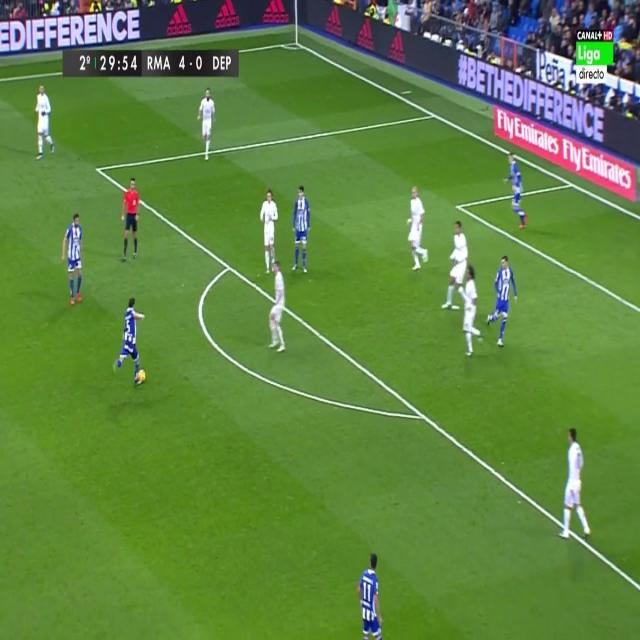Ball: (138, 366, 147, 388)
Player: (557, 422, 595, 546), (487, 255, 521, 350), (114, 297, 146, 385), (58, 211, 85, 309), (442, 219, 469, 315), (357, 549, 384, 638), (406, 182, 432, 274), (502, 150, 529, 233), (290, 180, 312, 277), (265, 261, 287, 353), (462, 265, 484, 357), (33, 82, 56, 165), (259, 187, 280, 274), (197, 87, 216, 165)
Referee: (120, 175, 142, 266)
